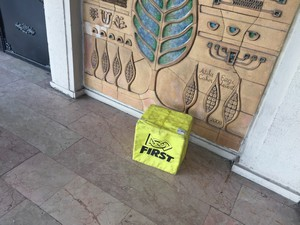cube: (130, 105, 190, 174)
